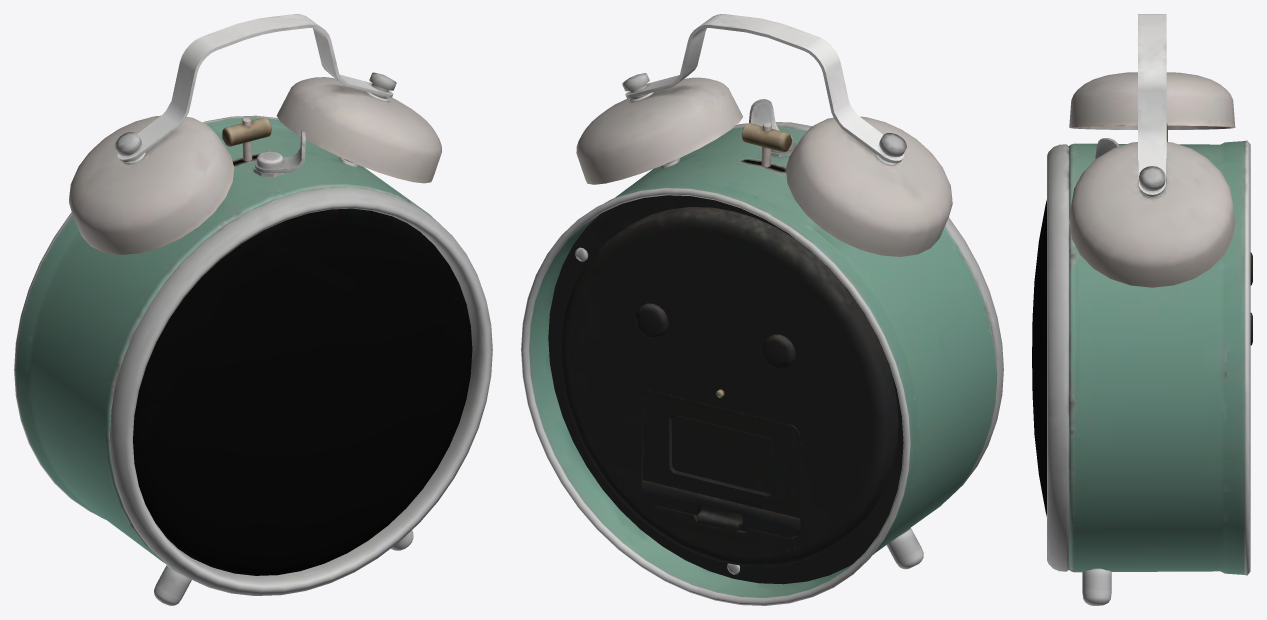
Rendered from alarm_clock_01.glb.
3 views of the same model, side by side, from view 1: azimuth 30°, elevation 25°; view 2: azimuth 150°, elevation 25°; view 3: azimuth 270°, elevation 25° (orthographic). The views are drawn at different scales.
Parts seen in each view (by area): view 1: alarm_clock_01; view 2: alarm_clock_01; view 3: alarm_clock_01.
Part boxes in pixels (bbox=[...]): alarm_clock_01: bbox=[14, 14, 492, 605]; alarm_clock_01: bbox=[521, 14, 1003, 605]; alarm_clock_01: bbox=[1032, 14, 1252, 605].
Size of the model in its own units: 0.1316 by 0.1741 by 0.0667.
2 materials, 2 textured.
